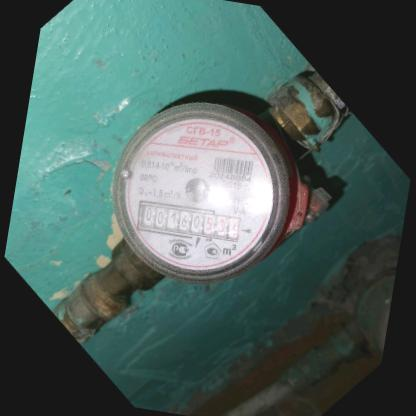digital_screen: (133, 199, 205, 239)
